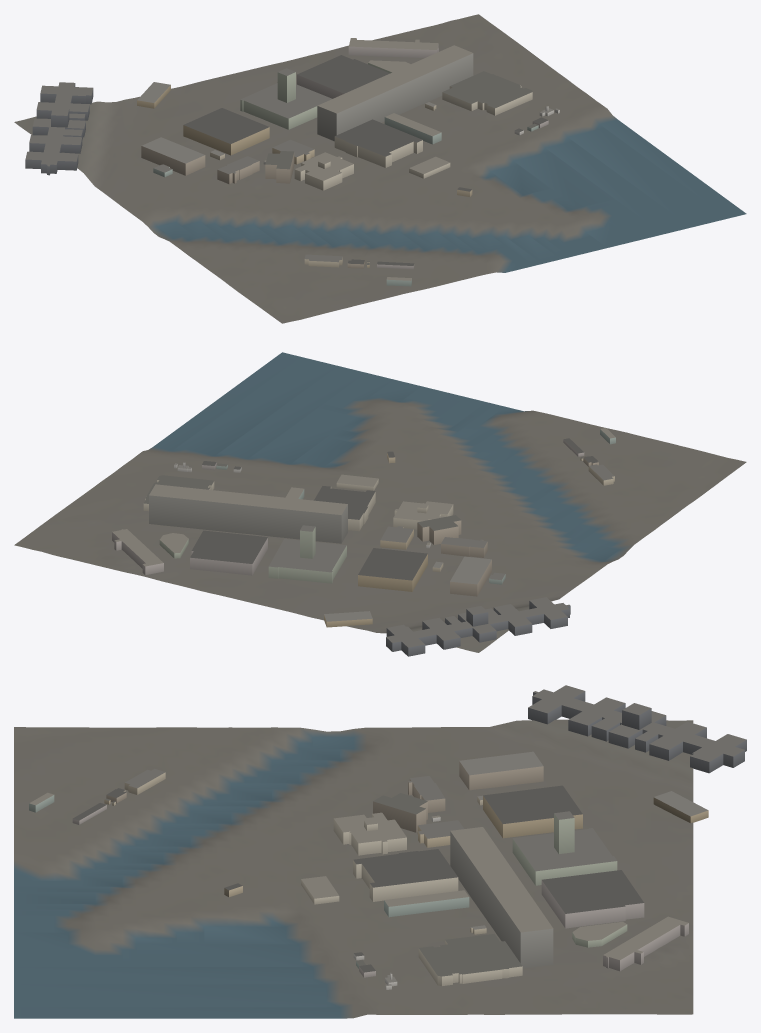
3 views of the same model, one above another, from view 1: azimuth 30°, elevation 25°; view 2: azimuth 150°, elevation 25°; view 3: azimuth 270°, elevation 25° (orthographic). The views are drawn at different scales.
Visible parts, largest first — view 1: ground, buildings; view 2: ground, buildings; view 3: ground, buildings.
Boxes of the visible parts, x1,y1,x2,y2 form: ground: (14, 14, 746, 323); buildings: (25, 38, 559, 286); ground: (14, 352, 746, 652); buildings: (112, 428, 615, 656); ground: (14, 719, 693, 1018); buildings: (29, 685, 746, 989).
Size of the model in its own units: 542 by 43.23 by 539.
